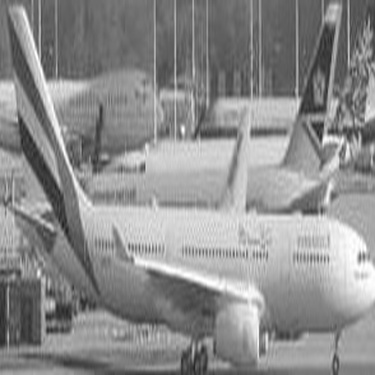airplane: (4, 4, 371, 373), (9, 6, 358, 222), (5, 52, 163, 164)
